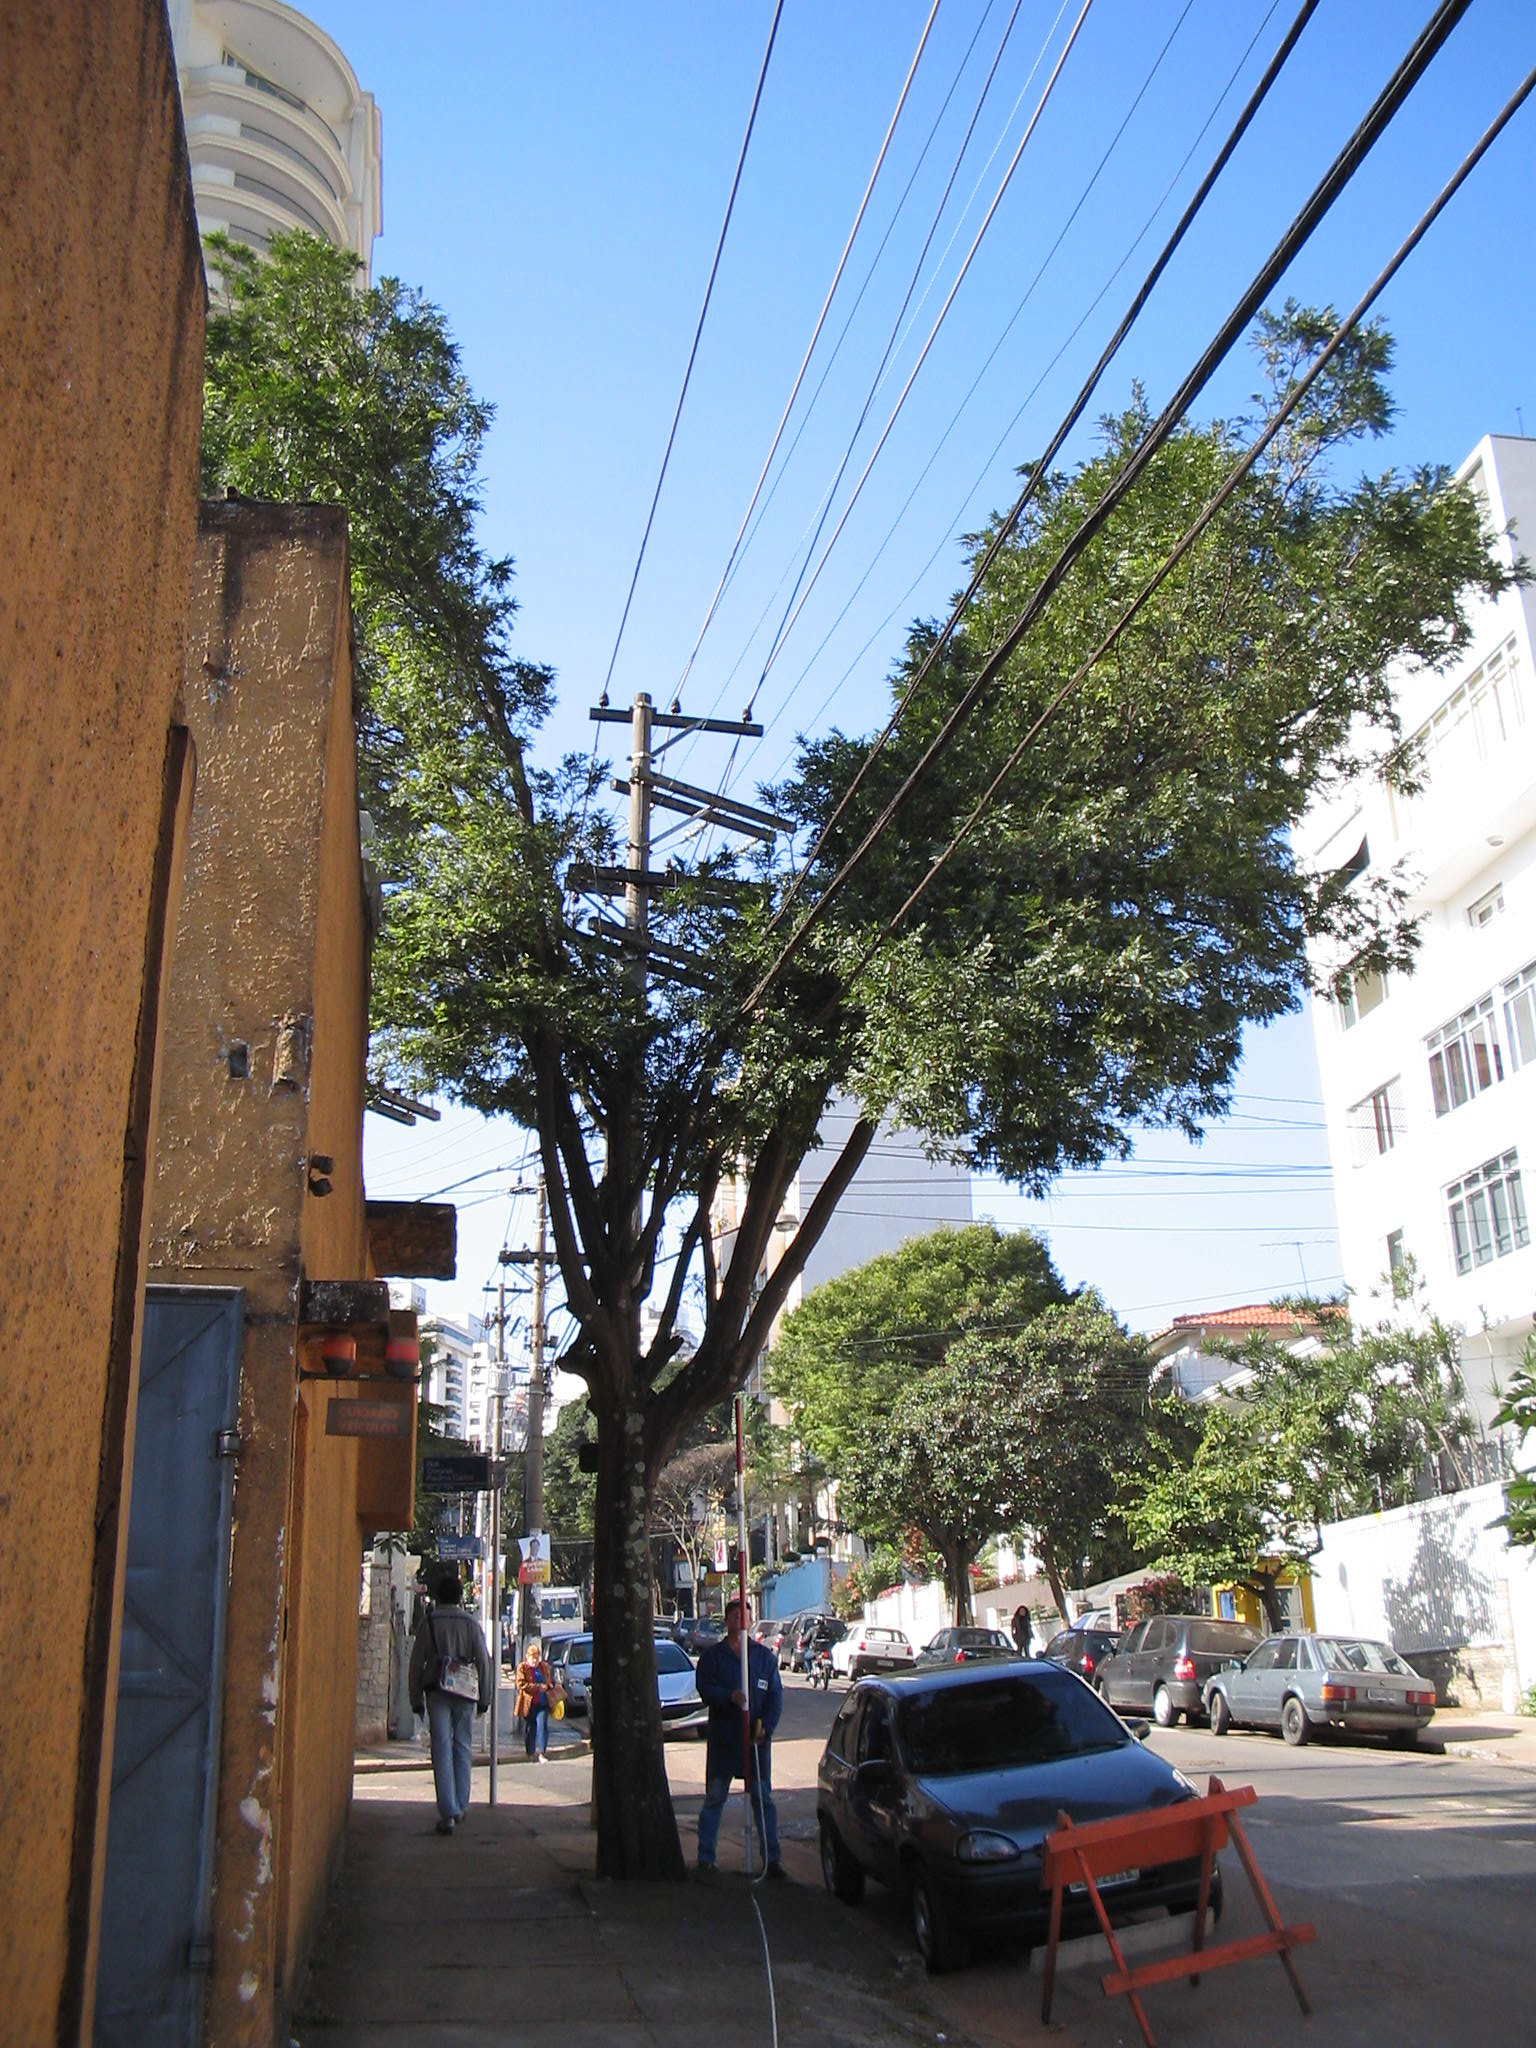crown: (224, 232, 1520, 1234)
stem: (549, 1424, 728, 1875)
stick: (699, 1395, 791, 1884)
tree: (219, 229, 1528, 1884), (833, 1303, 1157, 1632), (1112, 1361, 1454, 1629)
